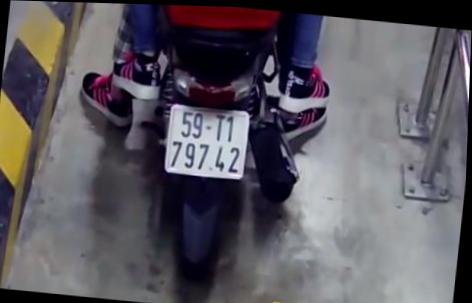LP: (163, 100, 254, 180)
